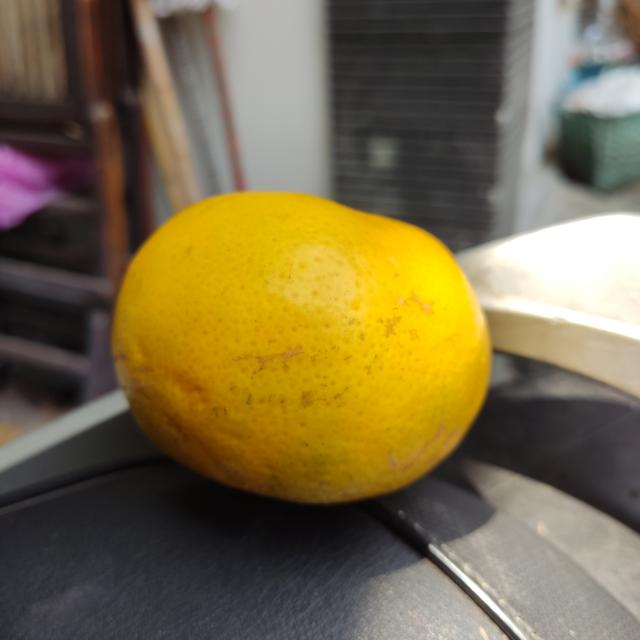orange: (110, 183, 496, 512)
